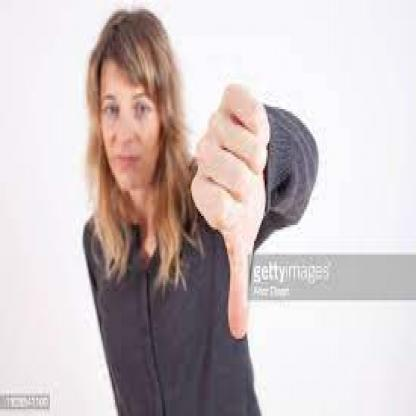thumb_down: (188, 77, 274, 343)
